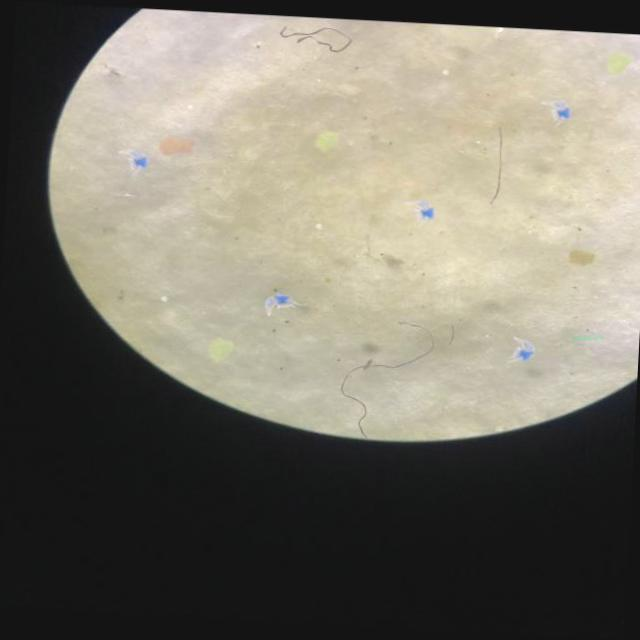fiber: (341, 346, 432, 437), (279, 28, 350, 53), (491, 130, 503, 204)
film: (264, 294, 292, 316), (515, 344, 534, 363), (130, 151, 147, 170), (418, 202, 433, 220), (555, 104, 570, 121)
fragment: (160, 140, 192, 157), (209, 340, 233, 362), (607, 56, 629, 74), (315, 133, 337, 151), (569, 250, 595, 265)
pellet: (441, 70, 449, 76), (187, 105, 193, 110), (162, 297, 167, 302), (315, 225, 320, 230)
